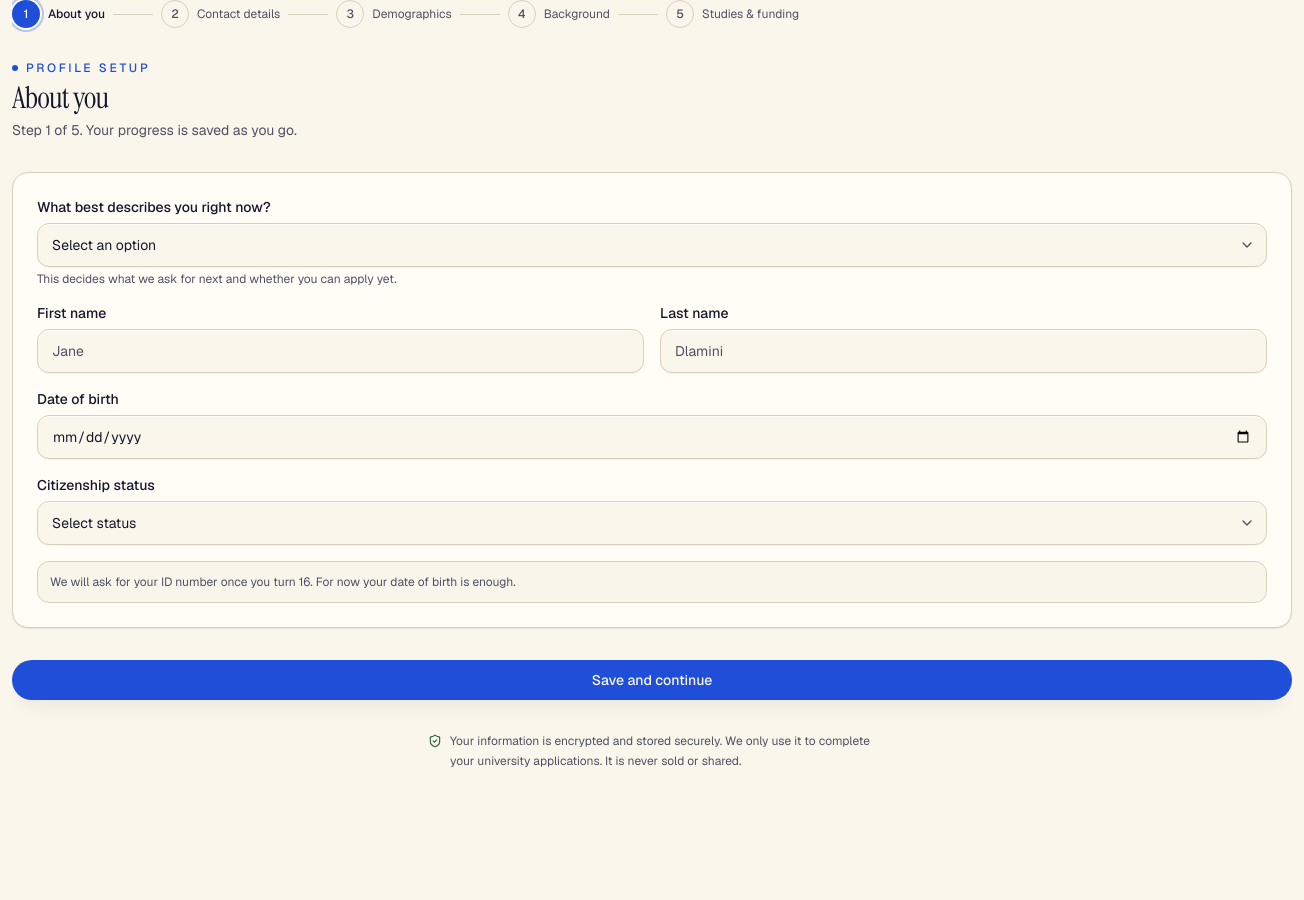
Scenario: ProfileSetupForm — Step 1 conditional rendering › shows a profile-only note for a Grade 8-11 explorer
The width and height of the screenshot is (1304, 900).
Select "In Grade 9" in the dropdown labelled "What best describes you right now?" at point(652, 245), box [37, 223, 1267, 267]
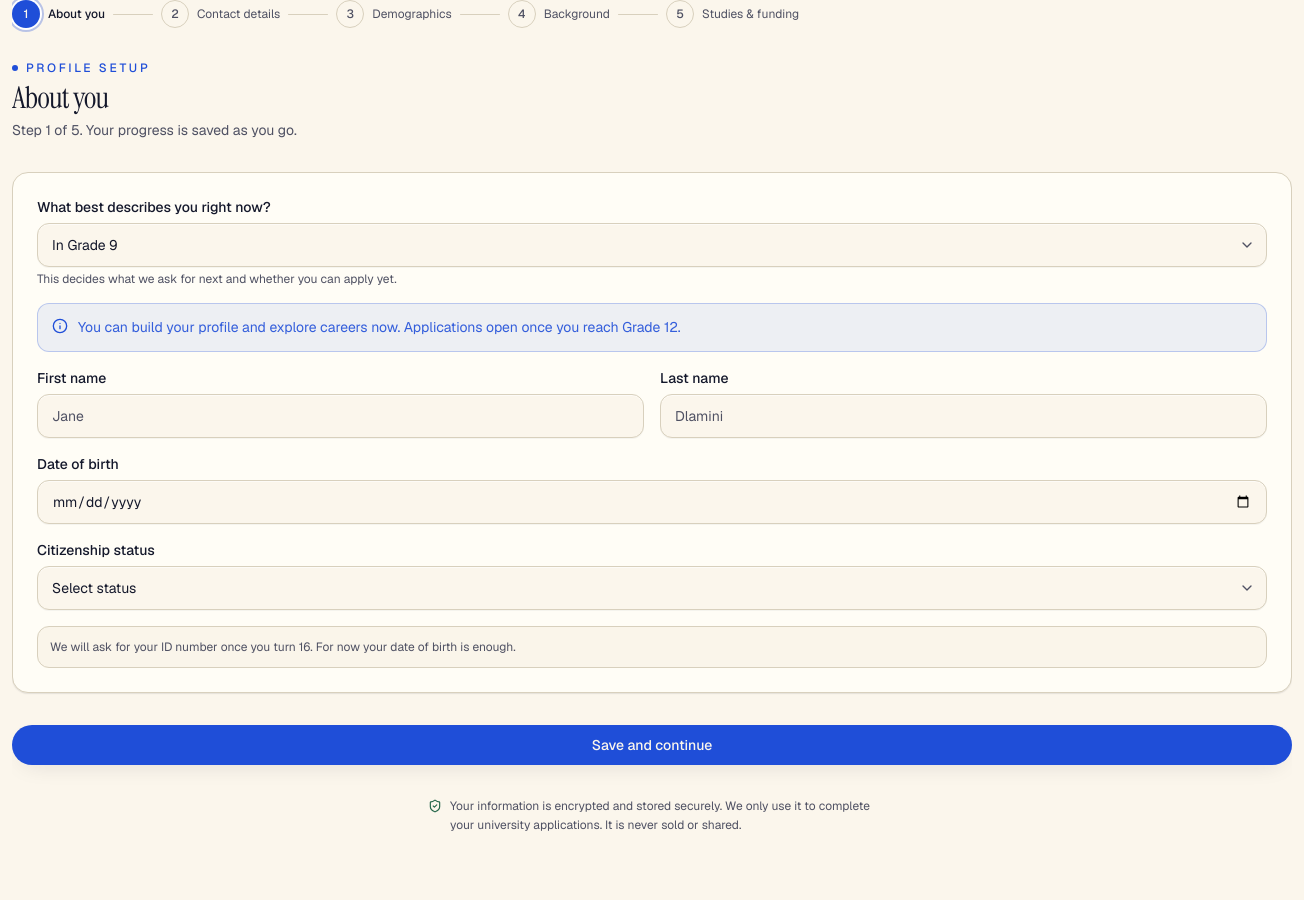
Expected: the text "explore careers now" is shown, [78, 318, 400, 336]
